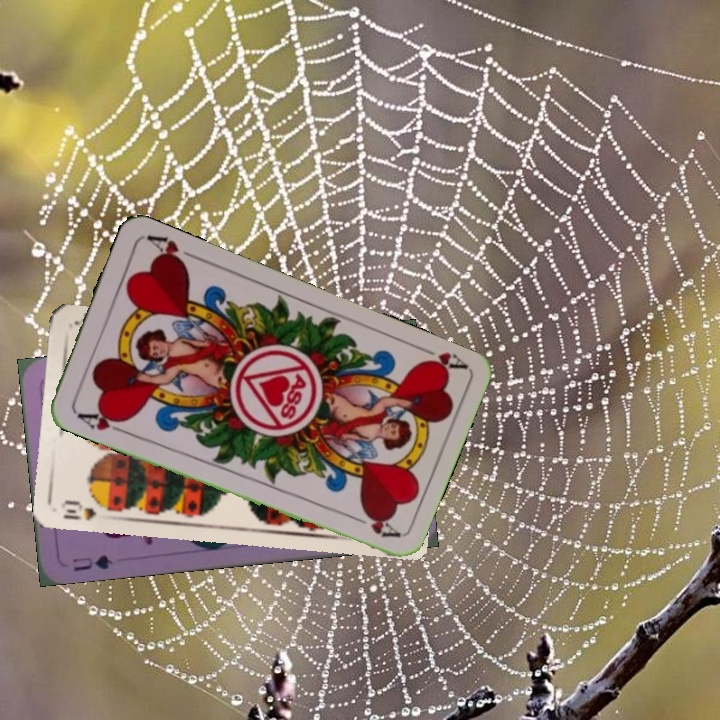GU: (68, 550, 115, 574)
HA: (411, 341, 468, 377), (71, 405, 128, 436)
S10: (57, 496, 115, 523)
